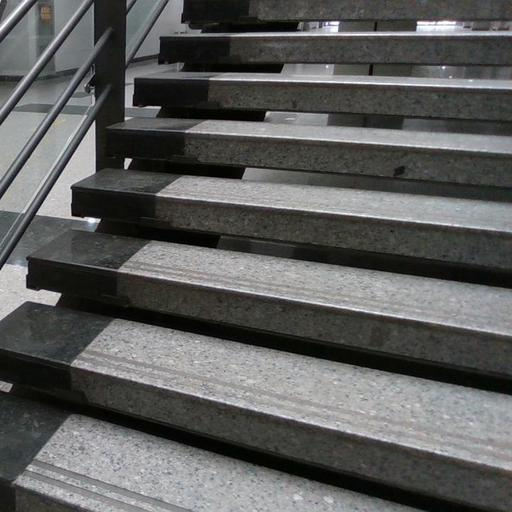stairs: (0, 0, 511, 511), (108, 118, 511, 193), (133, 72, 511, 121), (183, 0, 511, 23)
